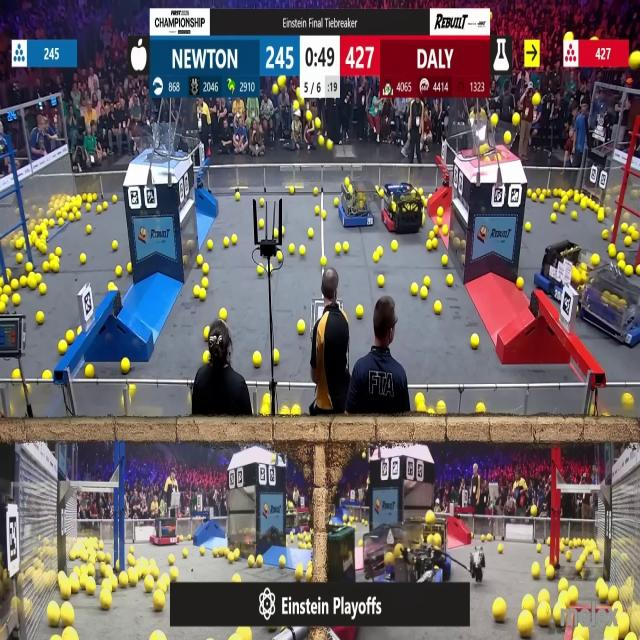ball_airborne: (630, 53, 640, 68), (278, 75, 286, 88), (532, 95, 540, 106), (503, 132, 510, 144), (514, 113, 521, 125), (565, 32, 573, 42), (315, 117, 321, 128), (492, 114, 498, 125), (531, 504, 537, 515), (307, 111, 313, 121), (481, 144, 486, 156), (293, 99, 299, 109), (318, 136, 324, 146), (326, 140, 332, 150), (273, 86, 279, 95), (481, 110, 486, 120), (298, 98, 303, 106), (295, 90, 299, 98)
ball_ground: (518, 614, 534, 639), (493, 599, 506, 621), (62, 606, 75, 627), (47, 606, 59, 628), (152, 592, 164, 612), (537, 609, 549, 628), (100, 592, 112, 610), (573, 628, 588, 640), (416, 394, 426, 411), (554, 609, 563, 627), (624, 392, 634, 408), (61, 584, 71, 600), (598, 588, 607, 604), (523, 596, 533, 610), (120, 357, 129, 372), (608, 588, 617, 603), (64, 629, 77, 639), (294, 566, 303, 580), (145, 579, 154, 593), (438, 400, 447, 414), (130, 571, 139, 585), (88, 582, 97, 596), (71, 581, 80, 595), (252, 352, 260, 367), (569, 589, 577, 604), (59, 342, 68, 355), (87, 363, 95, 377), (470, 336, 478, 350), (171, 566, 179, 580), (356, 304, 364, 318), (67, 329, 75, 343), (532, 564, 540, 578), (121, 574, 129, 588), (110, 578, 118, 592), (559, 578, 568, 590), (36, 312, 44, 325), (426, 512, 434, 525), (538, 591, 547, 602), (297, 320, 304, 334), (97, 563, 104, 577), (545, 567, 553, 579), (412, 283, 420, 295), (608, 245, 616, 257), (50, 262, 58, 274), (626, 266, 634, 278), (28, 277, 36, 289), (434, 302, 441, 315), (273, 350, 280, 363), (263, 408, 272, 418), (281, 408, 290, 418), (592, 253, 600, 264), (478, 404, 486, 415), (151, 632, 162, 640), (264, 393, 272, 404), (220, 309, 227, 321), (203, 352, 210, 364), (12, 293, 19, 305), (421, 287, 428, 299), (11, 279, 18, 291), (575, 560, 582, 572), (378, 276, 386, 286), (292, 407, 300, 417), (370, 252, 378, 262), (115, 267, 122, 278), (248, 556, 255, 567), (336, 243, 343, 254), (597, 211, 604, 222), (152, 567, 159, 578), (89, 564, 96, 575), (280, 556, 286, 568), (234, 573, 242, 582), (518, 278, 524, 290), (256, 555, 262, 567), (201, 288, 207, 300), (19, 276, 25, 288), (39, 284, 46, 294), (203, 266, 210, 276), (202, 278, 209, 288), (443, 224, 450, 234), (447, 276, 454, 286), (27, 264, 34, 274), (343, 243, 350, 253), (12, 368, 19, 378), (129, 556, 136, 566), (391, 241, 397, 252), (43, 263, 49, 274), (0, 303, 6, 314), (594, 553, 600, 564), (3, 286, 11, 294), (622, 223, 629, 232), (424, 277, 430, 287), (205, 327, 210, 339), (309, 229, 315, 239), (256, 267, 262, 277), (192, 286, 198, 296), (223, 238, 229, 248), (626, 237, 632, 247), (258, 218, 264, 228), (44, 368, 50, 378), (170, 555, 176, 565), (195, 255, 201, 265), (108, 282, 114, 292), (277, 251, 283, 261), (226, 554, 232, 564), (235, 550, 241, 560), (40, 244, 46, 254), (619, 252, 626, 260), (525, 222, 532, 230), (1, 294, 8, 302), (435, 217, 442, 225), (632, 233, 639, 241), (208, 240, 213, 251), (88, 224, 94, 233), (378, 247, 384, 256), (320, 210, 326, 219), (431, 240, 437, 249), (439, 208, 445, 217), (579, 201, 585, 210), (34, 273, 40, 282), (560, 542, 566, 551), (566, 553, 572, 562), (428, 408, 434, 417), (182, 255, 188, 264), (48, 218, 54, 227), (456, 240, 462, 249), (620, 261, 626, 270), (579, 554, 585, 563), (299, 246, 304, 256), (444, 255, 449, 265), (80, 253, 85, 263), (112, 241, 117, 251), (427, 240, 432, 250), (289, 244, 294, 254), (16, 252, 21, 262), (233, 236, 238, 246), (602, 232, 608, 240), (182, 550, 188, 558), (315, 207, 321, 215), (554, 203, 560, 211), (560, 206, 566, 214), (68, 213, 74, 221), (428, 232, 434, 240), (75, 212, 81, 220), (335, 200, 341, 208), (544, 537, 550, 545), (88, 192, 94, 200), (212, 551, 218, 559), (130, 384, 136, 392), (321, 256, 326, 265), (498, 543, 503, 552), (274, 230, 279, 239), (539, 193, 544, 202), (115, 560, 120, 569), (76, 326, 81, 335), (48, 253, 54, 260), (562, 197, 568, 204), (57, 248, 62, 256), (552, 214, 557, 222), (98, 206, 103, 214), (532, 192, 537, 200), (536, 542, 541, 550), (112, 194, 117, 202), (636, 266, 640, 276), (289, 186, 294, 194), (544, 558, 549, 566), (314, 187, 319, 195), (130, 544, 135, 552), (380, 189, 385, 197), (527, 187, 532, 195), (129, 265, 133, 274), (0, 277, 4, 286), (572, 211, 576, 220), (259, 200, 264, 207), (60, 218, 65, 225), (88, 205, 93, 212), (535, 188, 540, 195), (237, 191, 241, 199), (201, 546, 205, 554), (51, 635, 57, 640), (104, 203, 108, 210), (281, 227, 285, 234), (434, 225, 438, 232), (180, 534, 184, 541), (488, 534, 492, 540), (482, 535, 486, 541), (187, 534, 191, 540)
goal: (465, 122, 520, 160), (129, 130, 188, 160)
robot_blue: (388, 514, 454, 604), (584, 268, 640, 346), (537, 242, 590, 306), (338, 180, 374, 228), (284, 513, 304, 535)
robot_red: (380, 182, 424, 234), (151, 520, 179, 544)
